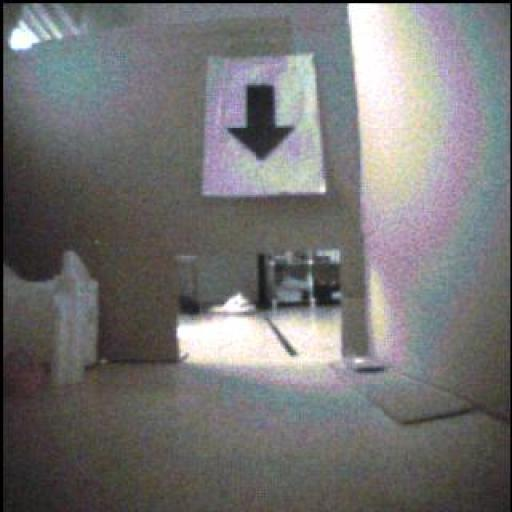arrow: (228, 86, 294, 161)
